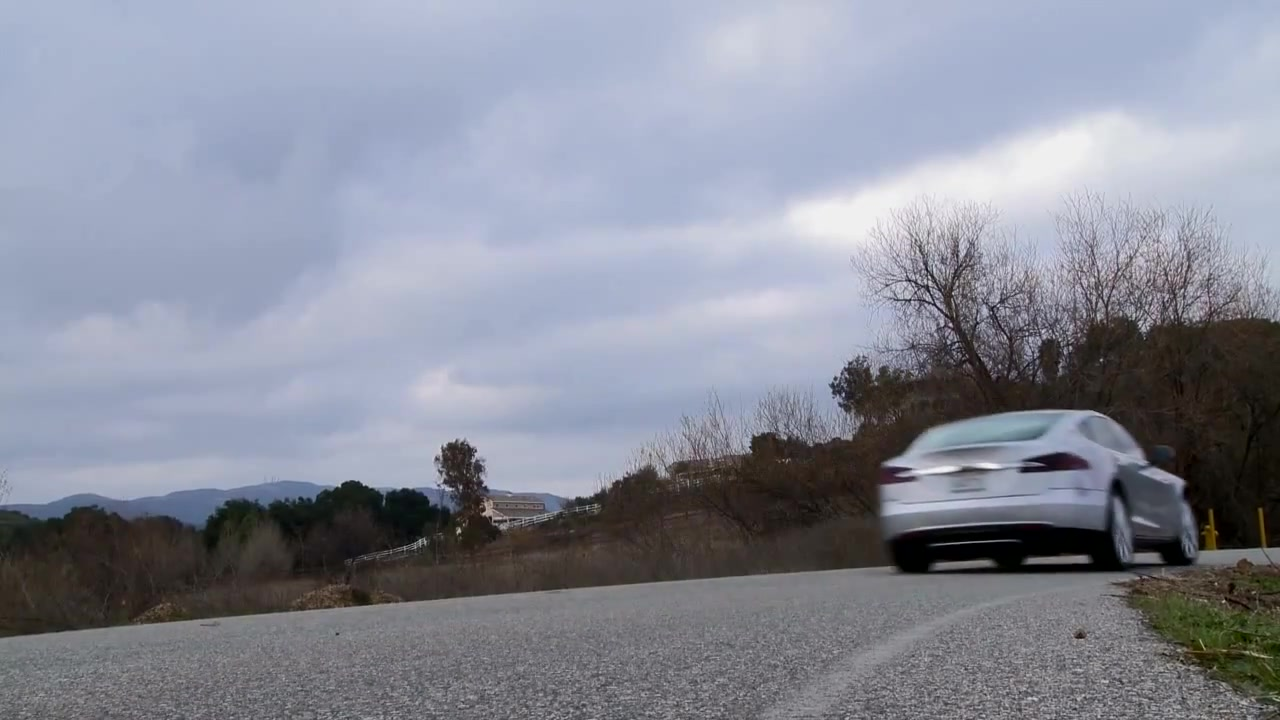car: (874, 407, 1206, 576)
